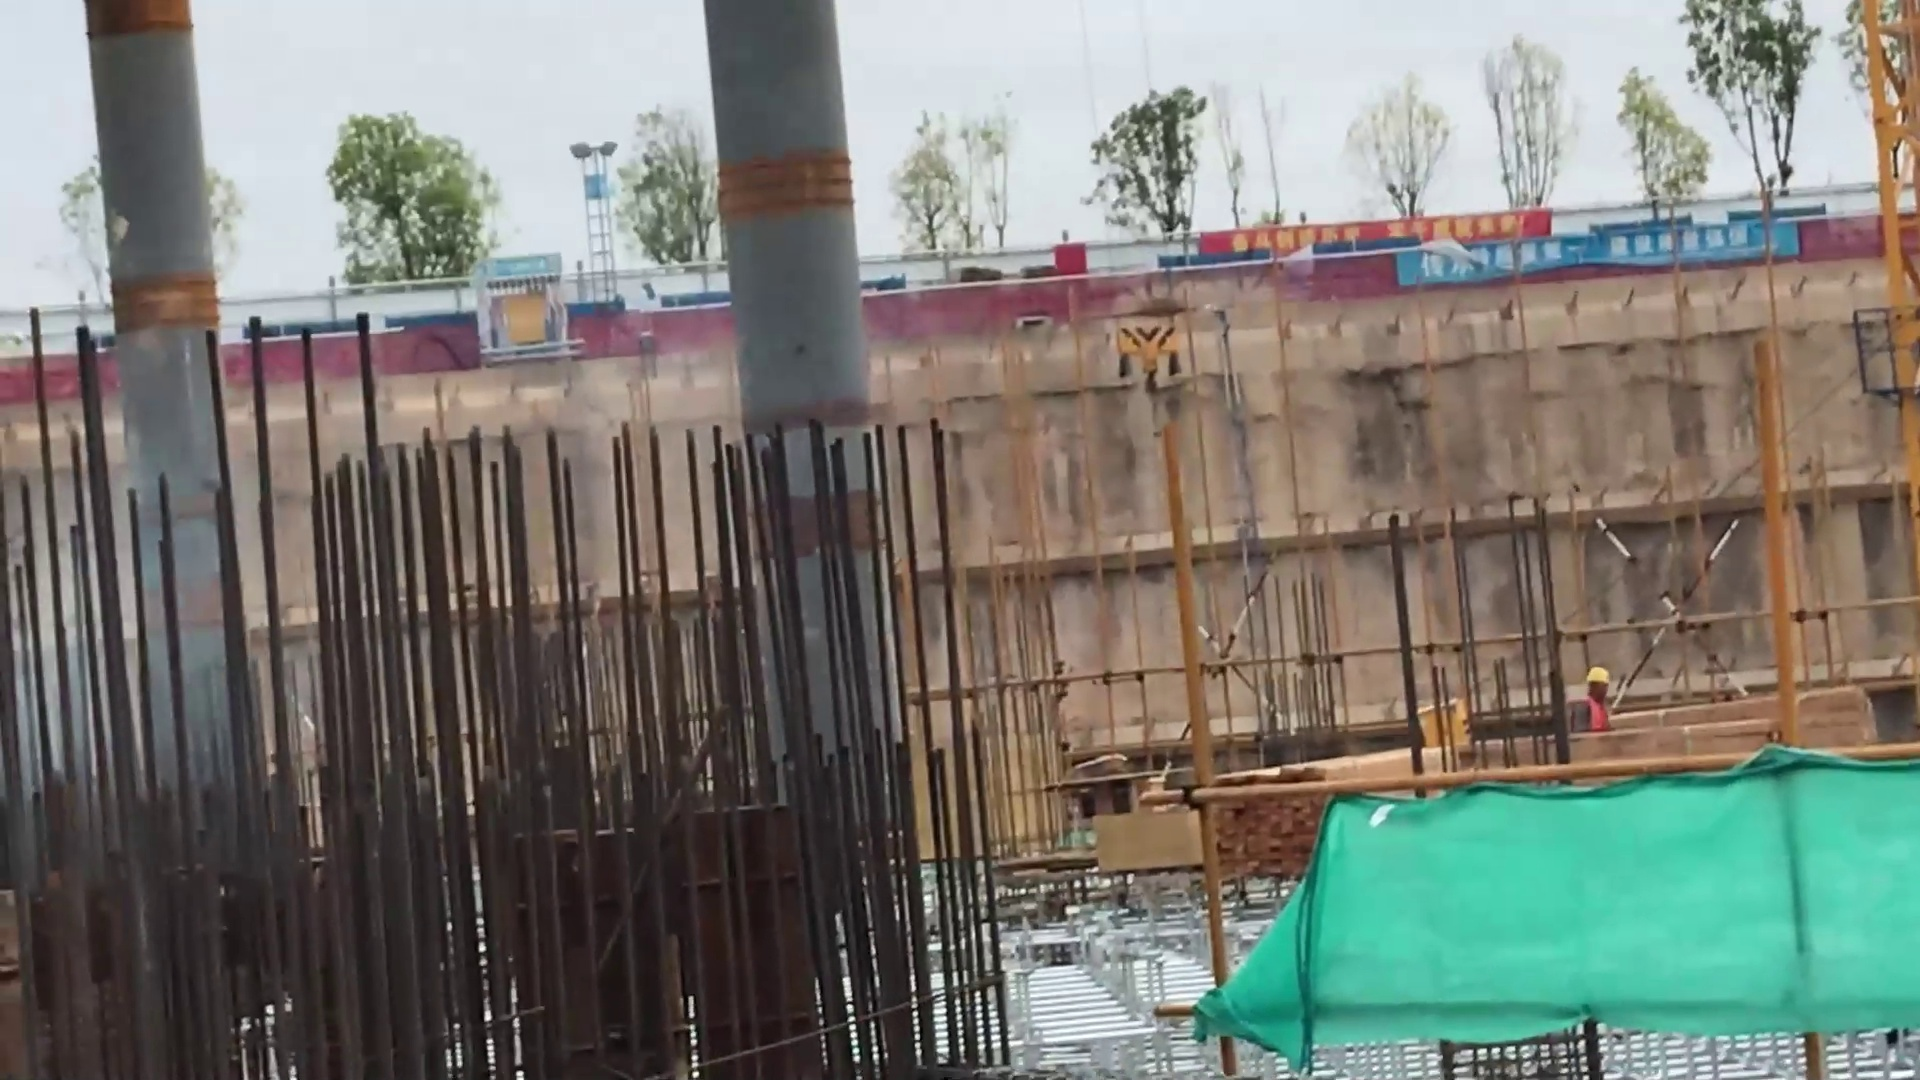ebox: (491, 291, 547, 341), (1420, 697, 1468, 744)
helmet: (1586, 666, 1610, 685)
hook: (1113, 322, 1186, 397)
person: (1568, 665, 1614, 732)
slogan: (1401, 221, 1796, 285), (1200, 208, 1551, 253)
vest: (1573, 698, 1608, 730)
wood: (1572, 702, 1868, 759), (1216, 748, 1326, 876)
